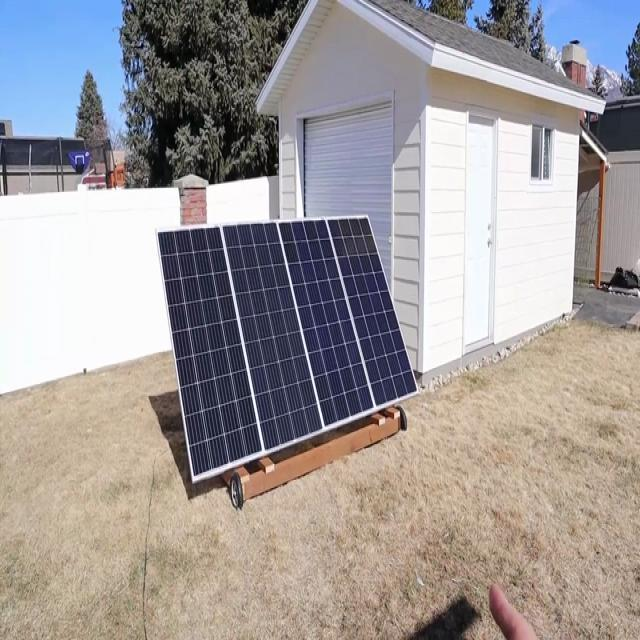Normal Solar Panel: (158, 216, 418, 481)
